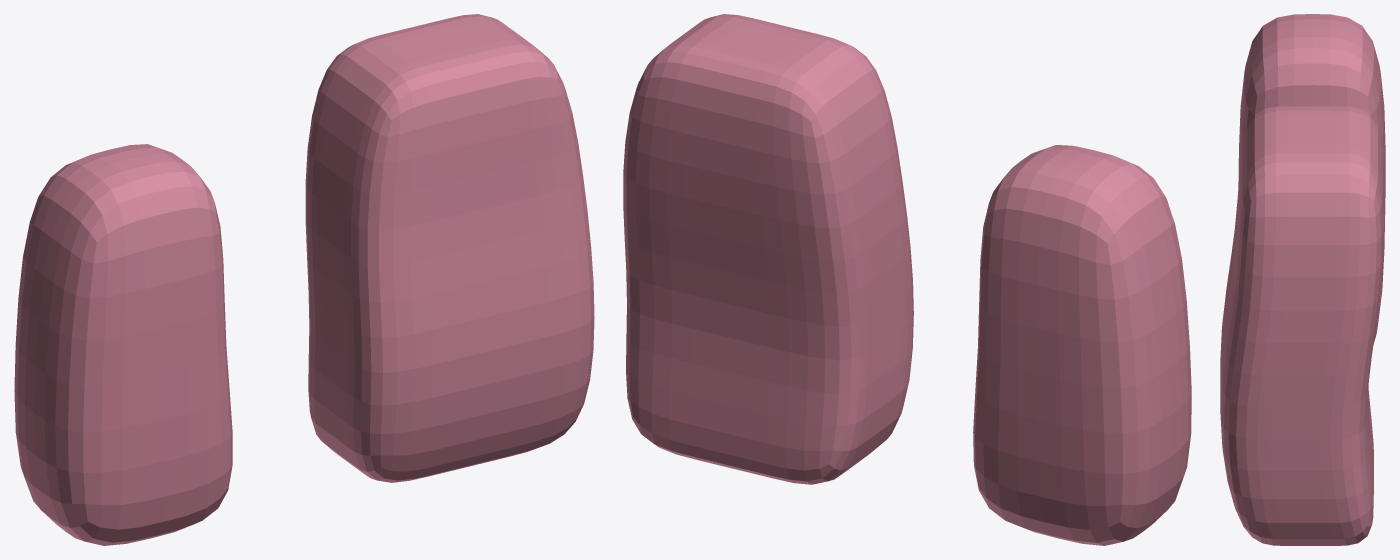
The model's file is lungs.fbx.
The picture shows the model from 3 angles, left to right: view 1: azimuth 30°, elevation 25°; view 2: azimuth 150°, elevation 25°; view 3: azimuth 270°, elevation 25°; orthographic projection. The views are drawn at different scales.
Parts seen in each view (by area): view 1: RightLung, LeftLung; view 2: RightLung, LeftLung; view 3: RightLung, LeftLung.
Part boxes in pixels (x1,y1,x2,y2): RightLung: (305, 14, 594, 482); LeftLung: (14, 144, 232, 545); RightLung: (623, 14, 913, 484); LeftLung: (973, 145, 1191, 545); RightLung: (1220, 106, 1384, 545); LeftLung: (1238, 14, 1385, 343).
Size of the model in its own units: 269 by 200 by 78.66.
